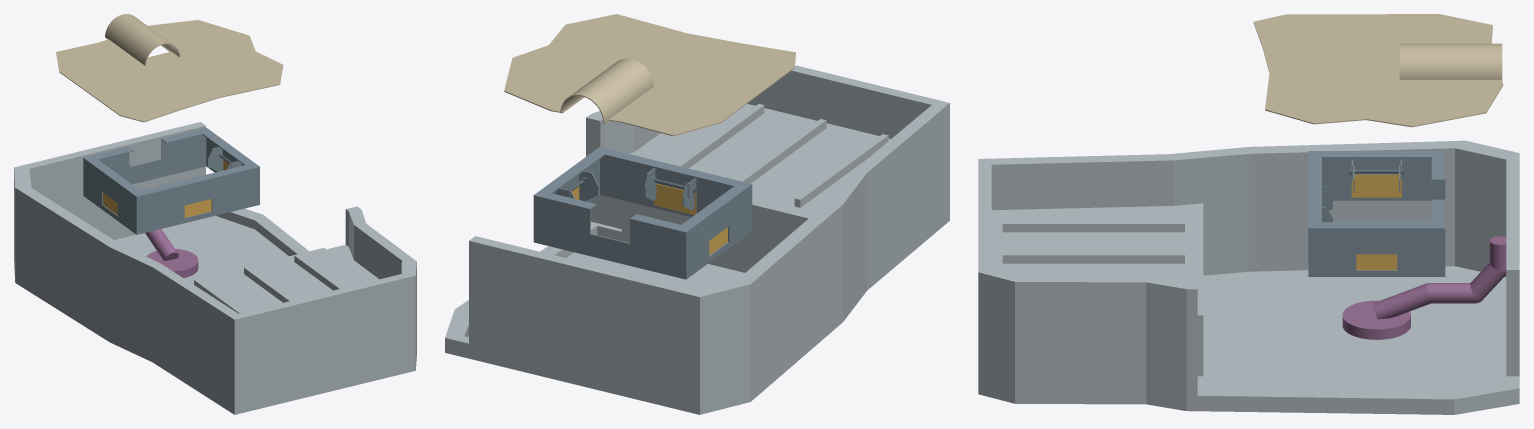
The model's file is baseline_pan_exploded.glb.
3 views of the same model, side by side, from view 1: azimuth 30°, elevation 25°; view 2: azimuth 150°, elevation 25°; view 3: azimuth 270°, elevation 25° (orthographic). The views are drawn at different scales.
Visible parts, largest first — view 1: baseline_pan_exploded (×5); view 2: baseline_pan_exploded (×4); view 3: baseline_pan_exploded (×5).
Part boxes in pixels (x1=…): baseline_pan_exploded (×5): x1=14, y1=14, x2=416, y2=414; baseline_pan_exploded (×4): x1=445, y1=14, x2=949, y2=414; baseline_pan_exploded (×5): x1=978, y1=14, x2=1519, y2=414.
Size of the model in its own units: 0.316 by 0.283 by 0.4747.
